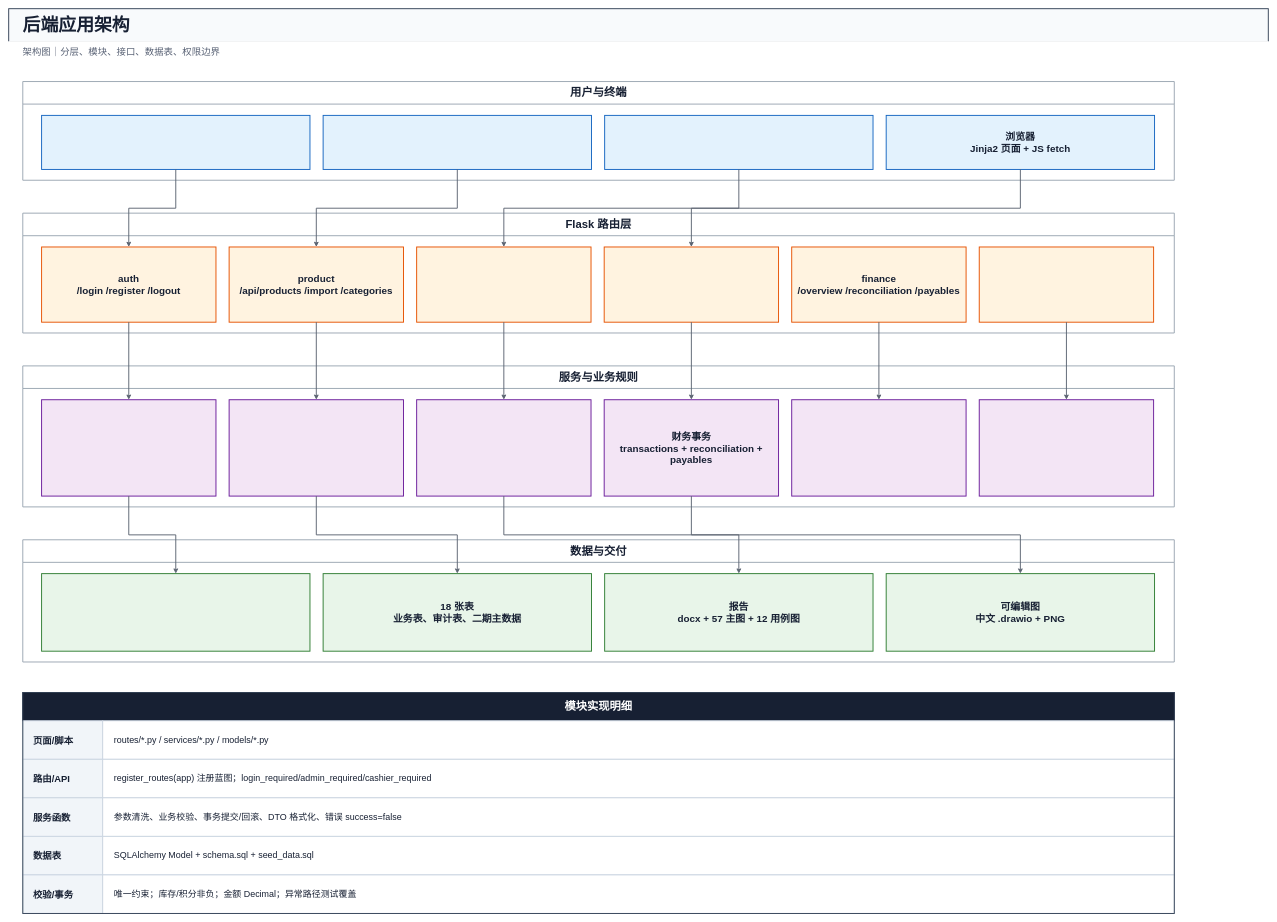
The diagram is 1277 pixels wide and 922 high, and some of its shapes have lost their labels. The centre of each missing label's shape, as x and y in pixels:
"cashier/sales /checkout /orders /detail" belongs at (691,284).
"inventory /summary /list /logs /alerts" belongs at (503,284).
"second_phase /members /employees /suppliers /settings" belongs at (1066,284).
"SQLite schema.sql + seed_data.sql" belongs at (175,612).
"商品库存 create/update/import + set_inventory_quantity" belongs at (316,447).
"店长/财务 分析/对账/验收" belongs at (738,142).
"收银事务 sales + sale_items + inventory_logs" belongs at (503,447).
"收银员 收银/销售/公告/助手" belongs at (457,142).
"智能助手 本地规则 + 可选 LLM 降级" belongs at (878,447).
"权限 login_required/admin_required" belongs at (128,447).
"测试 pytest + coverage 100%" belongs at (1066,447).
"管理员 商品/库存/财务/公告/二期主数据" belongs at (175,142).
